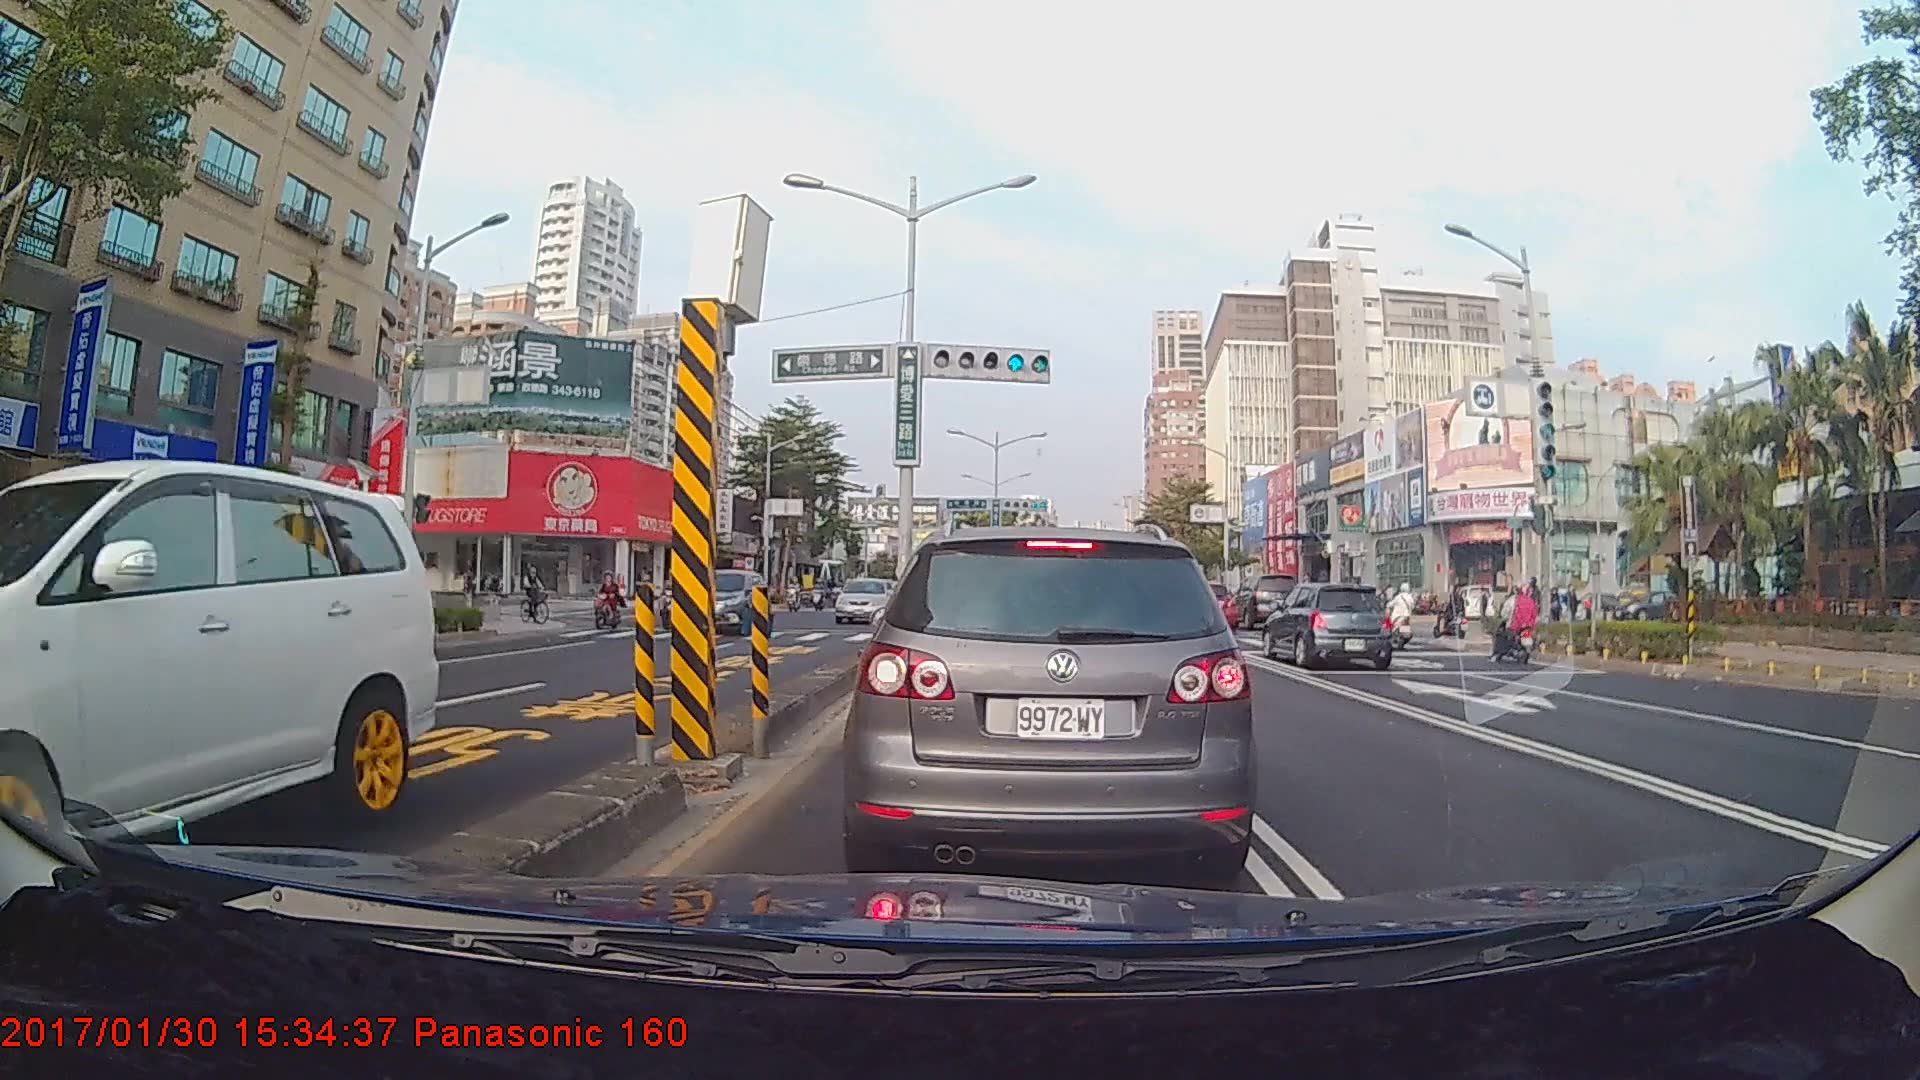rider: (1485, 582, 1548, 668), (518, 559, 561, 629), (588, 567, 628, 637), (1436, 582, 1473, 646)
vehicle: (0, 459, 440, 842), (851, 520, 1249, 879), (1259, 582, 1394, 668), (669, 568, 769, 635), (1228, 570, 1298, 628), (1170, 581, 1237, 635), (833, 576, 896, 623)
